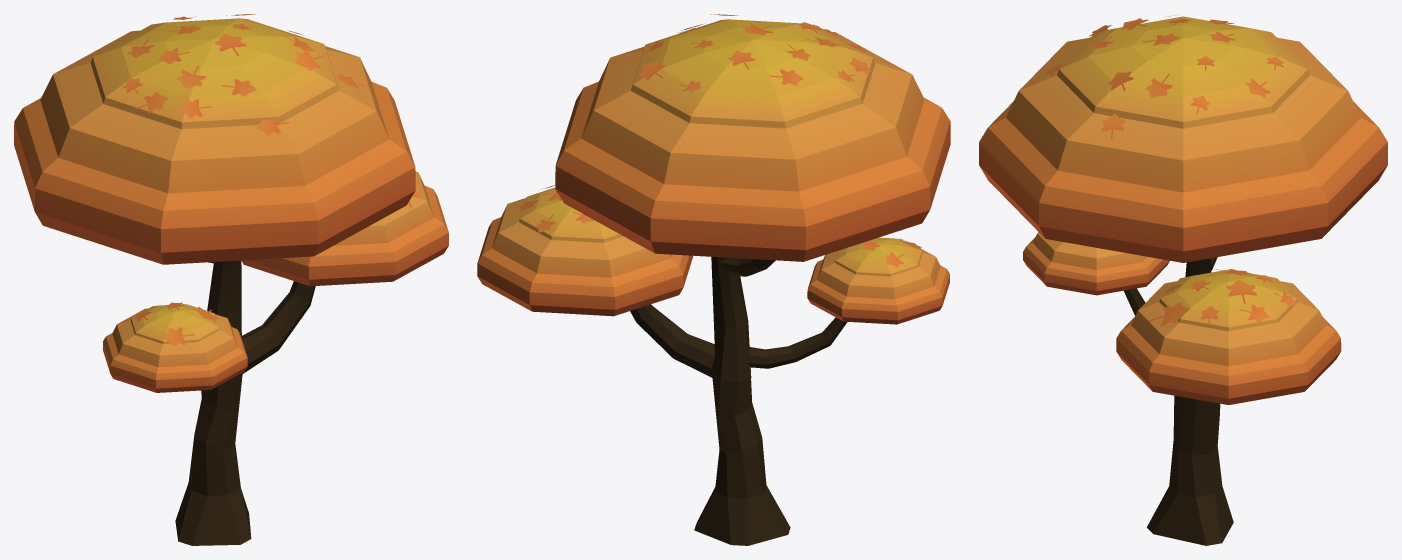
Rendered from farmpack2023autumntree.fbx.
The picture shows the model from 3 angles, left to right: view 1: azimuth 30°, elevation 25°; view 2: azimuth 150°, elevation 25°; view 3: azimuth 270°, elevation 25°; orthographic projection.
Visible parts, largest first — view 1: Sphere.006; view 2: Sphere.006; view 3: Sphere.006.
Part boxes in pixels (x1,y1,x2,y2): Sphere.006: (14, 14, 448, 545); Sphere.006: (477, 14, 950, 545); Sphere.006: (979, 14, 1387, 545).
Bounding box in the file's own units: 5.73 × 6.78 × 7.57.
